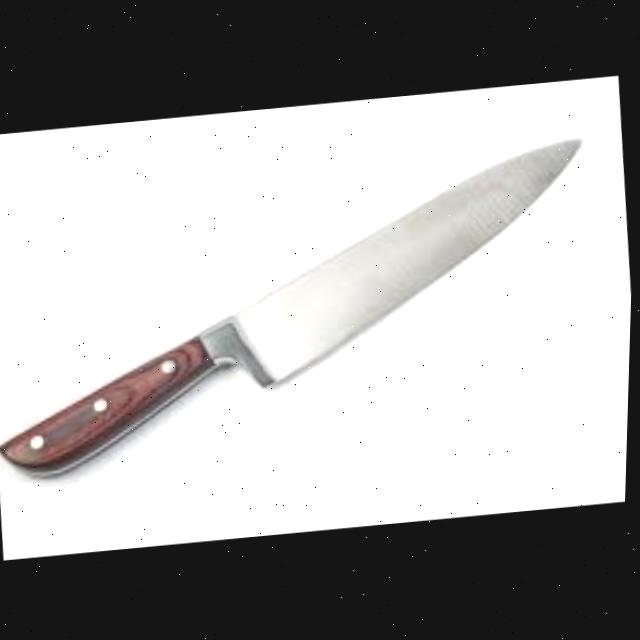knife: (0, 132, 609, 480)
